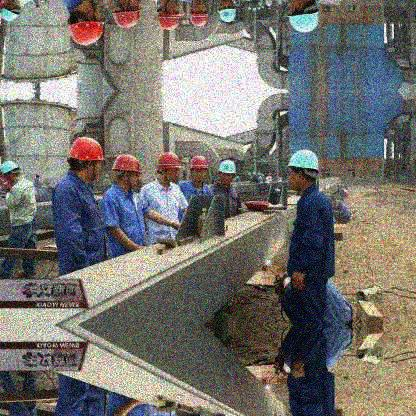helmet: (68, 1, 106, 45), (70, 136, 105, 182), (287, 149, 321, 194), (285, 1, 320, 36), (112, 155, 142, 187), (113, 1, 142, 30), (156, 152, 183, 183), (159, 1, 183, 30), (187, 1, 209, 25), (191, 156, 207, 185), (1, 1, 21, 23), (220, 160, 238, 184), (1, 161, 20, 183), (218, 1, 236, 23)
